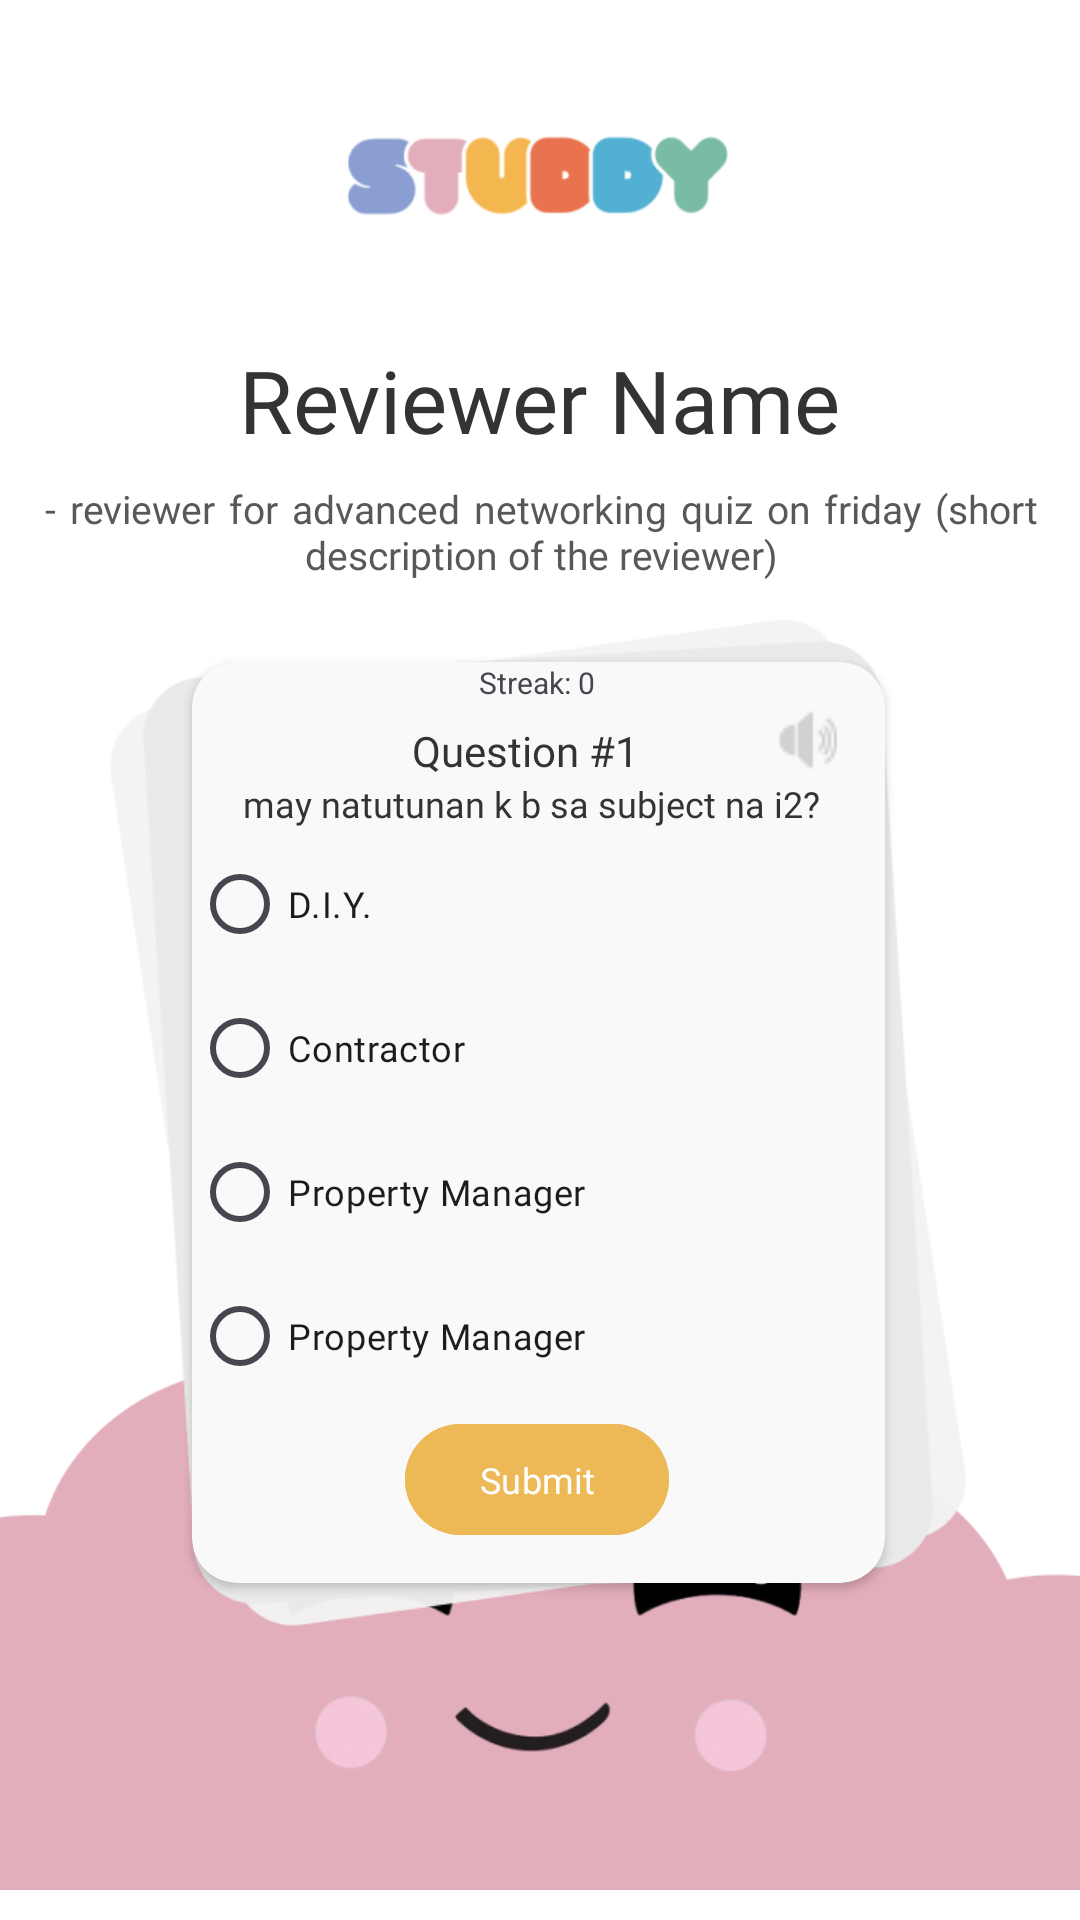

Point at icon controls on the screen. Image size 1080w x 1920h, points as [x,y].
volume high: [808,740]
